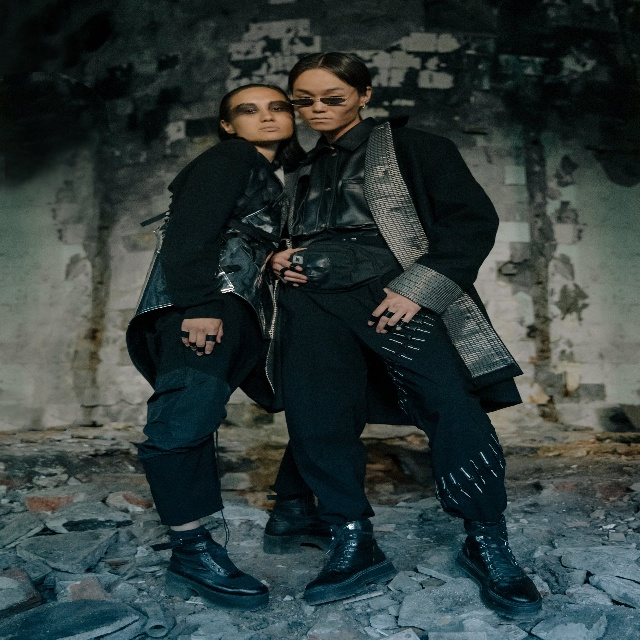Gafas: (293, 94, 345, 109)
Sin_guantes: (368, 286, 420, 327), (269, 247, 310, 294), (181, 316, 224, 352)
